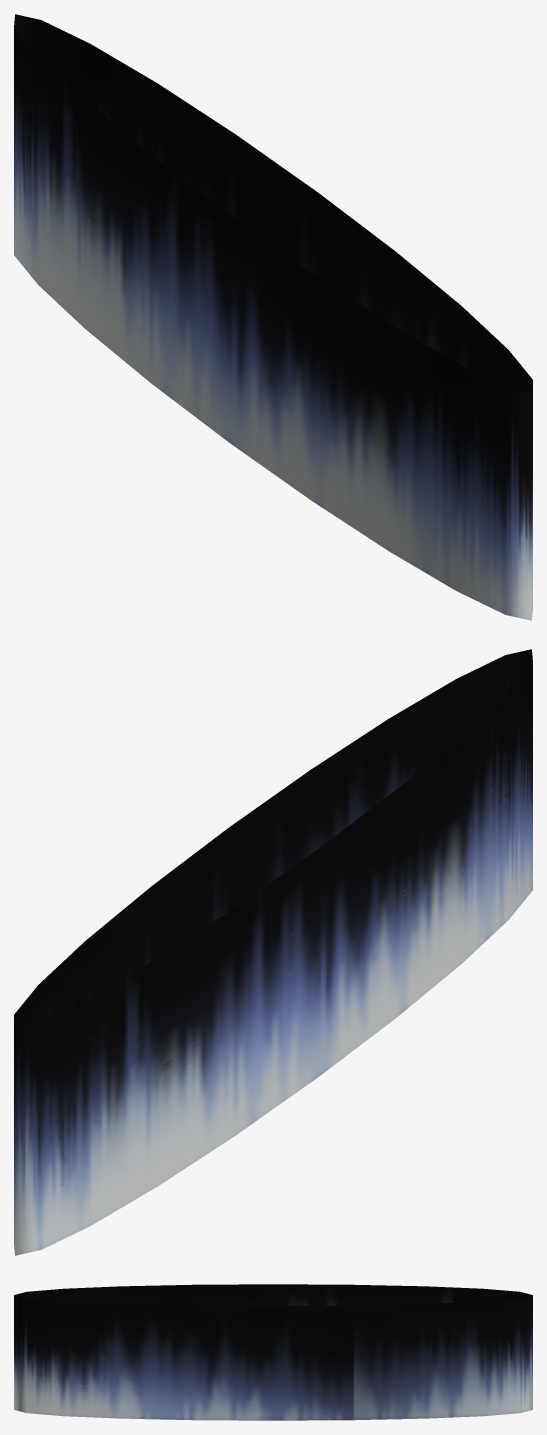
The model's file is Point.fbx.
3 renders of one model, top to bottom at view 1: azimuth 30°, elevation 25°; view 2: azimuth 150°, elevation 25°; view 3: azimuth 270°, elevation 25°, orthographic. The views are drawn at different scales.
Parts seen in each view (by area): view 1: pCylinder1; view 2: pCylinder1; view 3: pCylinder1.
Part boxes in pixels (left/top/right/bottom): pCylinder1: left=14, top=14, right=532, bottom=620; pCylinder1: left=14, top=649, right=532, bottom=1255; pCylinder1: left=14, top=1284, right=532, bottom=1420.
Size of the model in its own units: 0.00734 by 0.018 by 0.0738.
